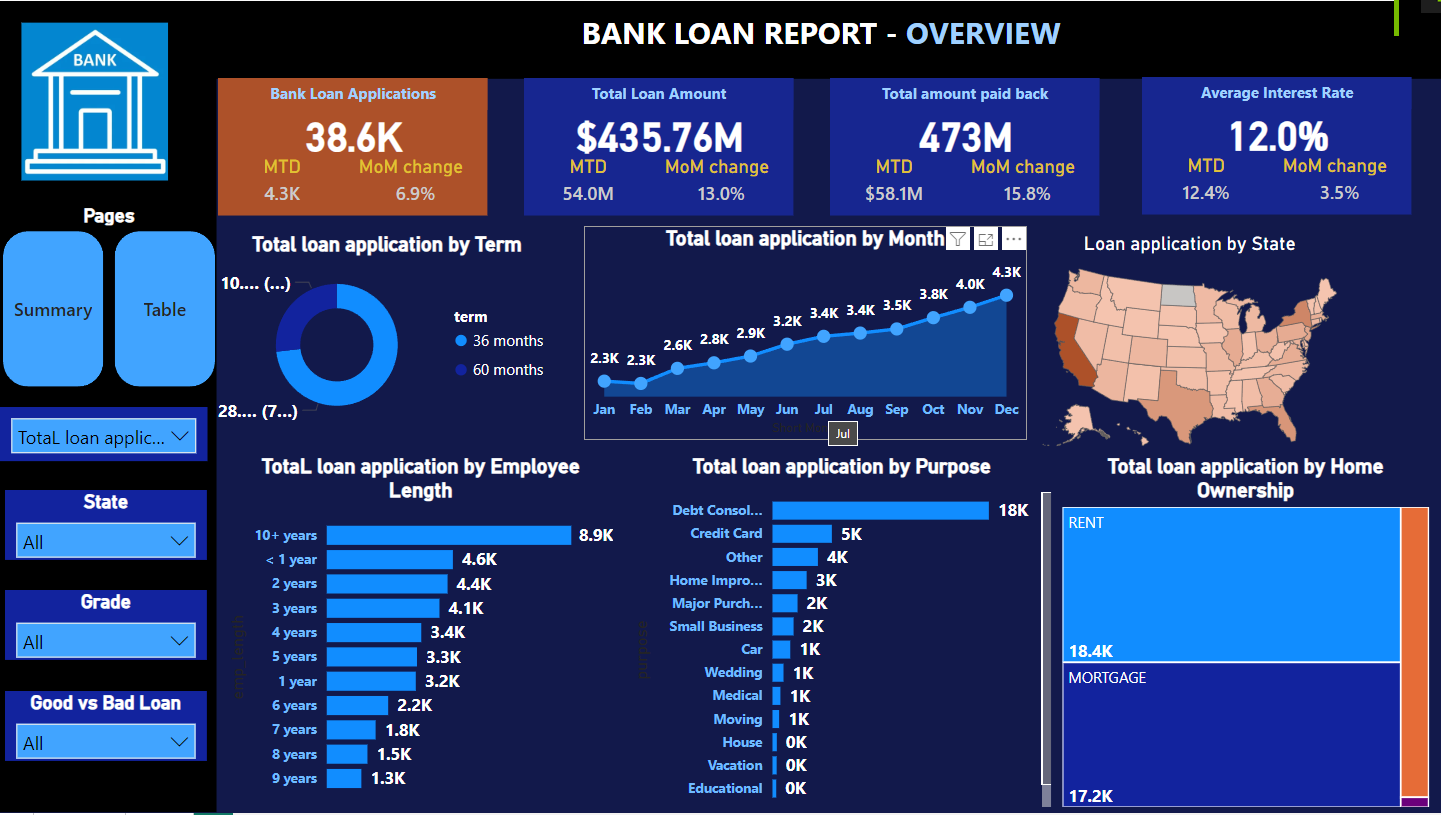

This screenshot's page, from the dashboard's own definition file:
{"tool":"powerbi","page":{"name":"Overview","canvas":[1280,720],"ordinal":1},"visuals":[{"type":"textbox","box":[0,0,1280,68.5],"z":0},{"type":"textbox","box":[0,68.5,192,651.1],"z":1000},{"type":"textbox","box":[192.5,4,1071.4,60.5],"z":2000},{"type":"shape","box":[1012.9,67.5,238.9,122],"z":3000,"group":"g4"},{"type":"group","id":"g1","title":"Group 1","box":[193.5,68.5,238.9,122],"z":3000},{"type":"shape","box":[193.5,68.5,238.9,122],"z":3000,"group":"g1"},{"type":"shape","box":[464.6,68.5,238.9,122],"z":3000,"group":"g2"},{"type":"shape","box":[735.7,68.5,238.9,122],"z":3000,"group":"g3"},{"type":"group","id":"g2","title":"Group 1","box":[464.6,68.5,238.9,122],"z":4000},{"type":"card","fields":{"Values":["Measures (2).Average interest rate"]},"box":[1016.9,85.6,231.8,63.5],"z":4000,"group":"g4"},{"type":"card","fields":{"Values":["Measures (2).TotaL loan application"]},"box":[197.5,86.6,231.8,63.5],"z":4000,"group":"g1"},{"type":"card","fields":{"Values":["Measures (2).Total loan amount"]},"box":[468.6,86.6,231.8,63.5],"z":4000,"group":"g2"},{"type":"card","fields":{"Values":["Measures (2).Total amount paid"]},"box":[739.7,86.6,231.8,63.5],"z":4000,"group":"g3"},{"type":"textbox","box":[1013.9,67.5,237.9,28.2],"z":5000,"group":"g4"},{"type":"textbox","box":[194.5,68.5,237.9,28.2],"z":5000,"group":"g1"},{"type":"textbox","box":[465.6,68.5,237.9,28.2],"z":5000,"group":"g2"},{"type":"group","id":"g3","title":"Group 1","box":[735.7,68.5,238.9,122],"z":5000},{"type":"textbox","box":[736.7,68.5,237.9,28.2],"z":5000,"group":"g3"},{"type":"group","id":"g4","title":"Group 1","box":[1012.9,67.5,239.9,122],"z":6000},{"type":"card","title":"MTD","fields":{"Values":["Date Table.MTD avg int"]},"box":[1016.9,136,104.8,53.4],"z":6000,"group":"g4"},{"type":"card","title":"MTD","fields":{"Values":["Date Table.MTD Loan Application"]},"box":[197.5,137,104.8,53.4],"z":6000,"group":"g1"},{"type":"card","title":"MTD","fields":{"Values":["Date Table.MTD Loan Amount"]},"box":[468.6,137,104.8,53.4],"z":6000,"group":"g2"},{"type":"card","title":"MTD","fields":{"Values":["Date Table.MTD Loan paid"]},"box":[739.7,137,104.8,53.4],"z":6000,"group":"g3"},{"type":"card","title":"MoM change","fields":{"Values":["Date Table.MoM avvg int"]},"box":[1132.8,136,110.9,53.4],"z":7000,"group":"g4"},{"type":"card","title":"MoM change","fields":{"Values":["Date Table.MoM loan application"]},"box":[313.4,137,110.9,53.4],"z":7000,"group":"g1"},{"type":"card","title":"MoM change","fields":{"Values":["Date Table.MoM loan amount"]},"box":[584.5,137,110.9,53.4],"z":7000,"group":"g2"},{"type":"card","title":"MoM change","fields":{"Values":["Date Table.MoM amount paid"]},"box":[855.6,137,110.9,53.4],"z":7000,"group":"g3"},{"type":"slicer","title":"State","fields":{"Values":["financial_loan.address_state"]},"box":[4.6,433.2,178.9,61.6],"z":7000},{"type":"slicer","title":"Grade","fields":{"Values":["financial_loan.grade"]},"box":[4.6,522.7,178.9,61.6],"z":8000},{"type":"slicer","title":"Good vs Bad Loan","fields":{"Values":["financial_loan.Good vs Bad loan"]},"box":[4.6,612.1,178.9,61.6],"z":9000},{"type":"areaChart","title":"Total loan application by Month","fields":{"Y":["Measures (2).TotaL loan application"],"Category":["Date Table.Short Month"]},"box":[518,199.8,392.6,189.3],"z":10000},{"type":"slicer","fields":{"Values":["Parameter.Parameter"]},"box":[0,360.1,183.5,47.6],"z":11000},{"type":"shapeMap","title":"Loan application by State","fields":{"Value":["Measures (2).TotaL loan application"],"Category":["financial_loan.address_state"]},"box":[845.6,204.4,418.1,203.3],"z":12000},{"type":"donutChart","title":"Total loan application by Term","fields":{"Y":["Measures (2).TotaL loan application"],"Category":["financial_loan.term"]},"box":[189.8,204.8,306.8,179.1],"z":13000},{"type":"barChart","title":"TotaL loan application by Employee Length","fields":{"Y":["Measures (2).TotaL loan application"],"Category":["financial_loan.emp_length"]},"box":[197.5,401.9,350.8,310.1],"z":14000},{"type":"barChart","title":"Total loan application by Purpose","fields":{"Y":["Measures (2).TotaL loan application"],"Category":["financial_loan.purpose"]},"box":[556.4,401.9,381,318.3],"z":15000},{"type":"treemap","title":"Total loan application by Home Ownership","fields":{"Values":["Measures (2).TotaL loan application"],"Group":["financial_loan.home_ownership"]},"box":[937.4,401.9,334.5,318.3],"z":16000},{"type":"pageNavigator","title":"Pages","box":[2.3,180,188.2,162.6],"z":17000},{"type":"image","box":[0,13.9,168.4,149.8],"z":18000}]}

Visuals, with their boxes in screenshot pixels (x1, y1, x2, y2), scaled from the page's 1280x720 canvas onto the 1441x815 screenshot:
textbox: 0,0,1440,78
textbox: 0,78,216,814
textbox: 217,5,1423,73
shape: 1140,76,1409,215
"Group 1" group: 218,78,487,216
shape: 218,78,487,216
shape: 523,78,792,216
shape: 828,78,1097,216
"Group 1" group: 523,78,792,216
card - Measures (2).Average interest rate: 1145,97,1406,169
card - Measures (2).TotaL loan application: 222,98,483,170
card - Measures (2).Total loan amount: 528,98,788,170
card - Measures (2).Total amount paid: 833,98,1094,170
textbox: 1141,76,1409,108
textbox: 219,78,487,109
textbox: 524,78,792,109
"Group 1" group: 828,78,1097,216
textbox: 829,78,1097,109
"Group 1" group: 1140,76,1410,215
"MTD" card: 1145,154,1263,214
"MTD" card: 222,155,340,216
"MTD" card: 528,155,646,216
"MTD" card: 833,155,951,216
"MoM change" card: 1275,154,1400,214
"MoM change" card: 353,155,478,216
"MoM change" card: 658,155,783,216
"MoM change" card: 963,155,1088,216
"State" slicer: 5,490,207,560
"Grade" slicer: 5,592,207,661
"Good vs Bad Loan" slicer: 5,693,207,763
"Total loan application by Month" areaChart: 583,226,1025,440
slicer - Parameter.Parameter: 0,408,207,461
"Loan application by State" shapeMap: 952,231,1423,461
"Total loan application by Term" donutChart: 214,232,559,435
"TotaL loan application by Employee Length" barChart: 222,455,617,806
"Total loan application by Purpose" barChart: 626,455,1055,814
"Total loan application by Home Ownership" treemap: 1055,455,1432,814
"Pages" pageNavigator: 3,204,214,388
image: 0,16,190,185
